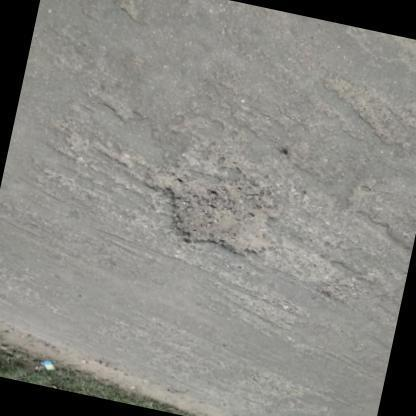pothole: (148, 170, 286, 260)
